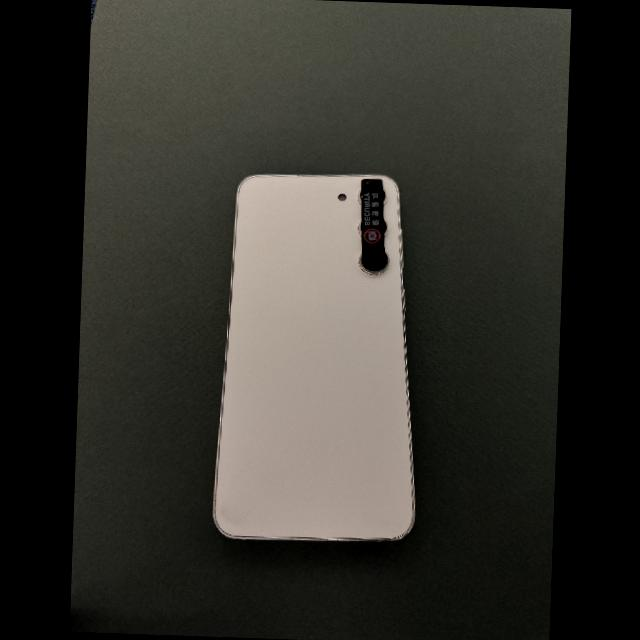lens: (360, 251, 388, 273), (381, 189, 385, 203), (358, 220, 360, 239)
phone: (213, 173, 414, 540)
sticker: (361, 178, 384, 257)
